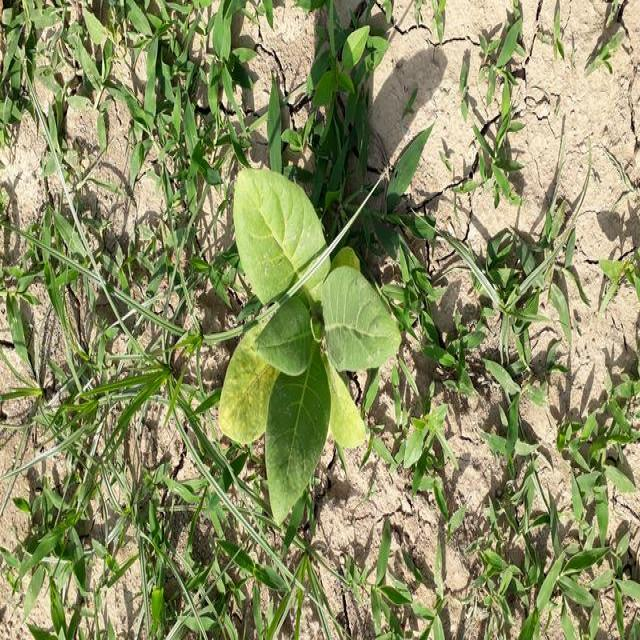crop: (214, 156, 404, 516)
